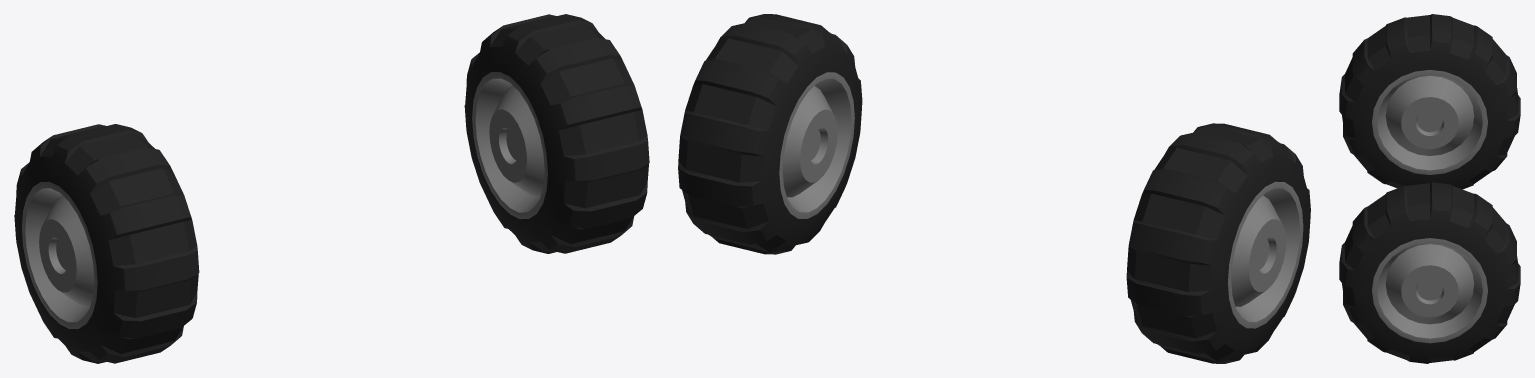
The model's file is backwheels.002_lev1.glb.
3 renders of one model, left to right at view 1: azimuth 30°, elevation 25°; view 2: azimuth 150°, elevation 25°; view 3: azimuth 270°, elevation 25°, orthographic. The views are drawn at different scales.
Parts seen in each view (by area): view 1: backwheels.002_lev1; view 2: backwheels.002_lev1; view 3: backwheels.002_lev1.
Boxes of the visible parts, x1=… form: backwheels.002_lev1: x1=14, y1=14, x2=649, y2=363; backwheels.002_lev1: x1=678, y1=14, x2=1310, y2=363; backwheels.002_lev1: x1=1339, y1=14, x2=1520, y2=363.
Size of the model in its own units: 2.4 by 0.8967 by 0.8967.
Materials: 1 (1 with a texture image).
